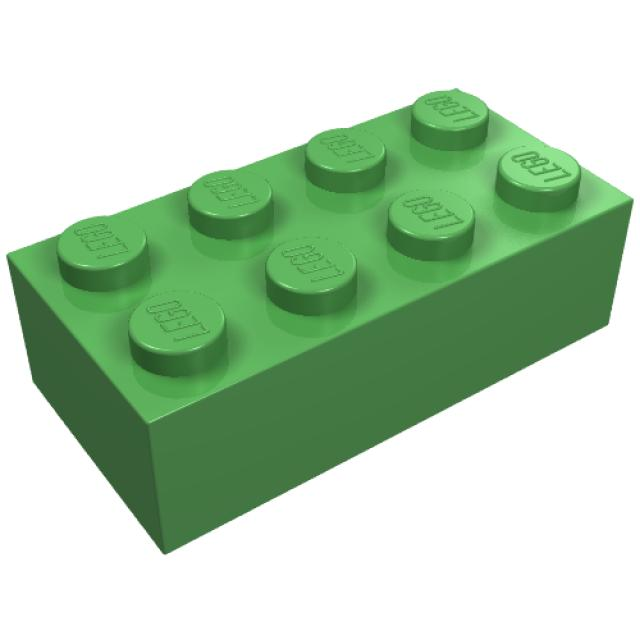Green_Large: (6, 90, 634, 557)
